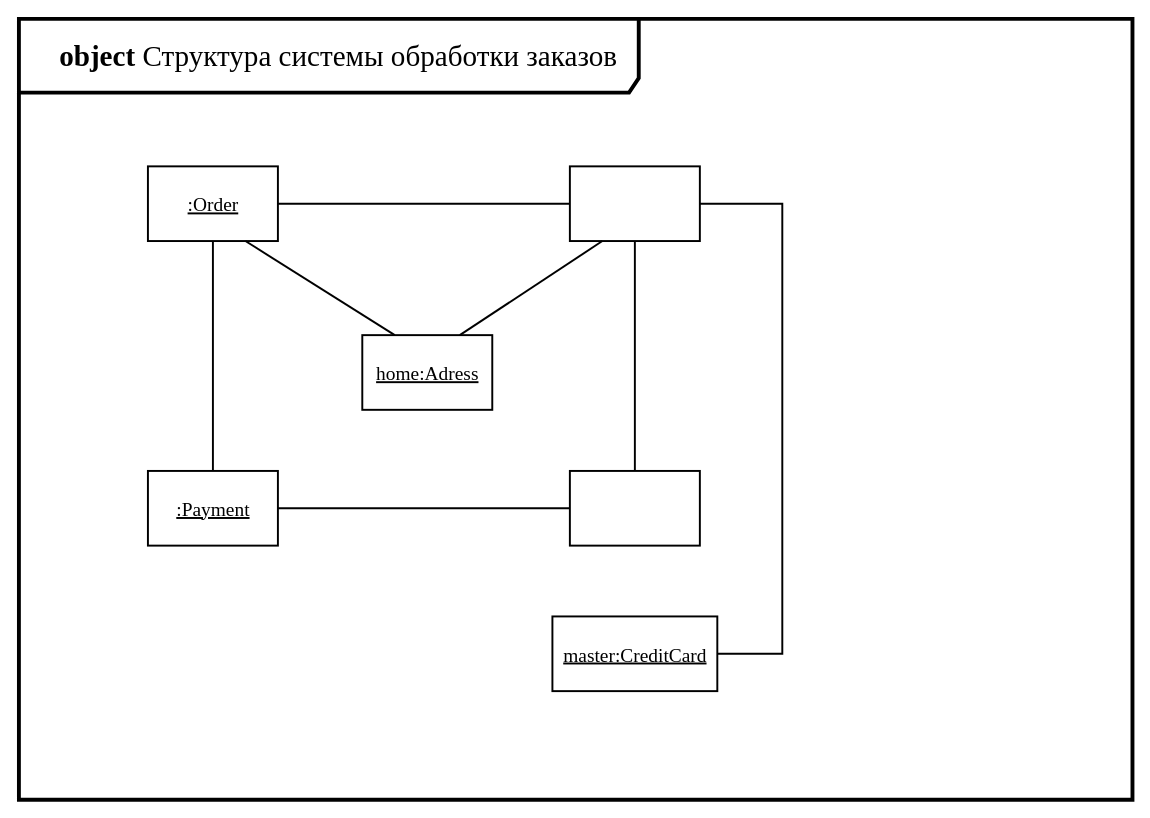
Image size: 1150x818. Some labels were removed from this diagram. Here are the shapes that lost their labels. From the top down, the box of each, then its label:
(568, 165, 700, 242): :Customer
(568, 469, 700, 546): visa:CreditCard
